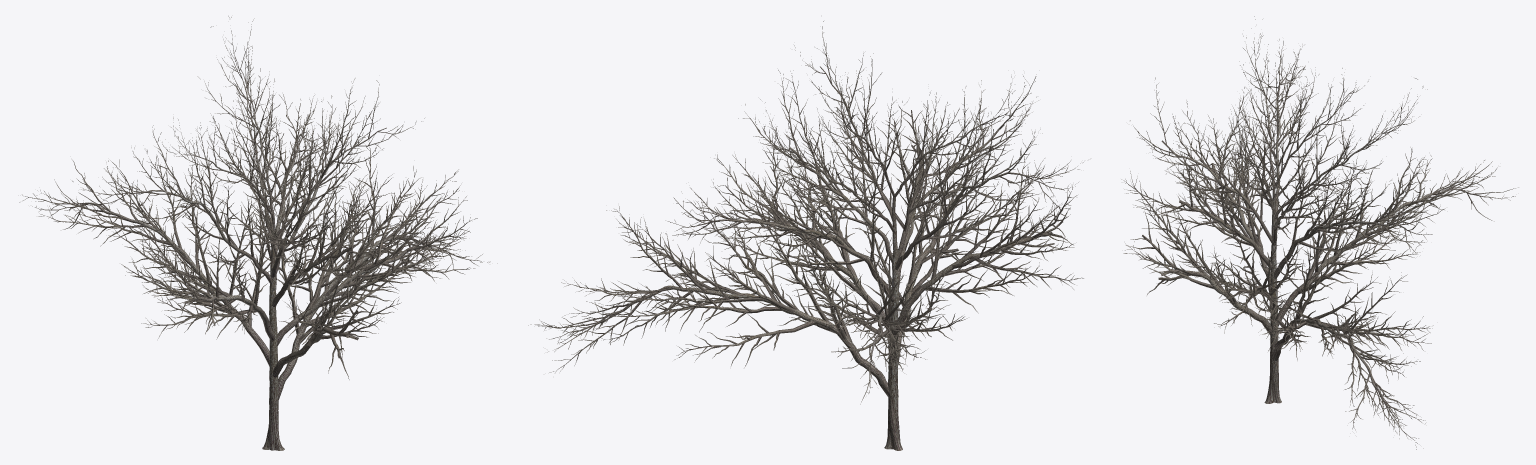
The model's file is tree_trunk_1.obj.
3 views of the same model, side by side, from view 1: azimuth 30°, elevation 25°; view 2: azimuth 150°, elevation 25°; view 3: azimuth 270°, elevation 25° (orthographic). The views are drawn at different scales.
Size of the model in its own units: 12.14 by 9.41 by 10.11.
Materials: 1 (1 with a texture image).
